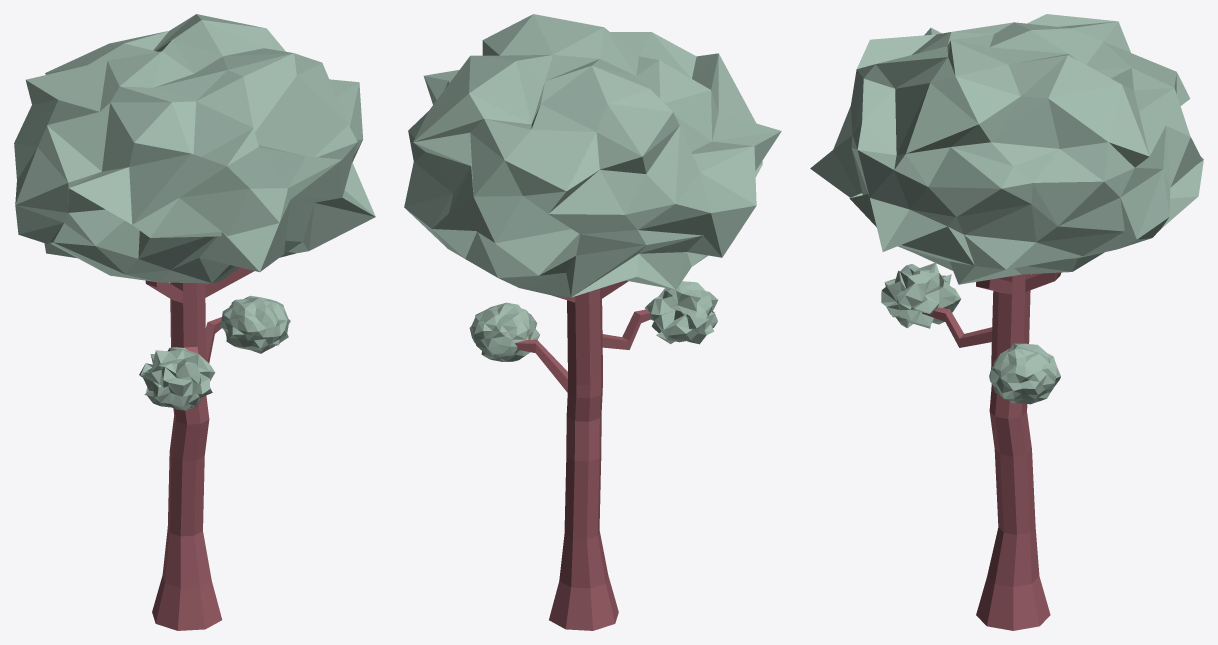
Rendered from Tree_2.fbx.
3 views of the same model, side by side, from view 1: azimuth 30°, elevation 25°; view 2: azimuth 150°, elevation 25°; view 3: azimuth 270°, elevation 25° (orthographic). The views are drawn at different scales.
Visible parts, largest first — view 1: Icosphere, Cylinder, Icosphere.002, Icosphere.001; view 2: Icosphere, Cylinder, Icosphere.002, Icosphere.001; view 3: Icosphere, Cylinder, Icosphere.002, Icosphere.001.
Part boxes in pixels (x1,y1,x2,y2): Icosphere: (14, 14, 375, 283); Cylinder: (145, 267, 254, 630); Icosphere.002: (139, 347, 215, 410); Icosphere.001: (219, 295, 290, 353); Icosphere: (404, 14, 781, 297); Cylinder: (515, 280, 650, 630); Icosphere.002: (645, 281, 717, 344); Icosphere.001: (469, 302, 540, 361); Icosphere: (810, 14, 1203, 284); Cylinder: (922, 272, 1060, 630); Icosphere.002: (881, 263, 960, 328); Icosphere.001: (989, 343, 1060, 404).
Size of the model in its own units: 620 by 990 by 608.
